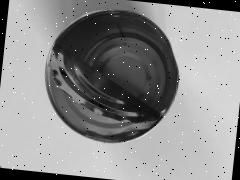metal: (17, 0, 203, 170)
